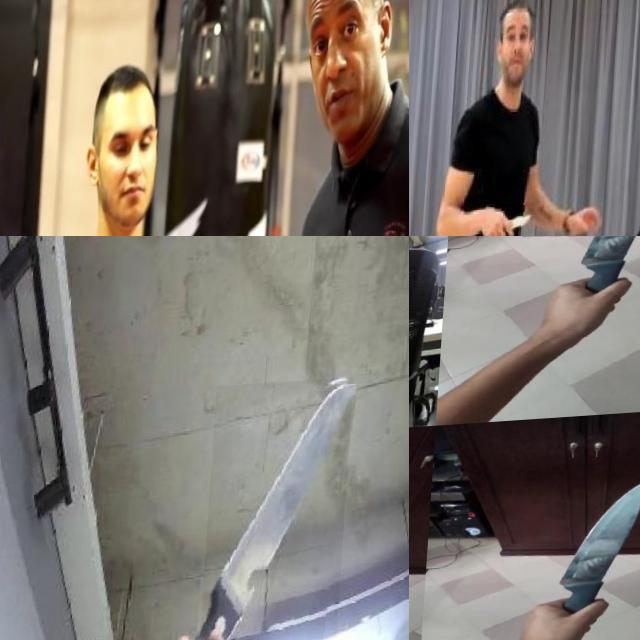-: (207, 384, 358, 640), (559, 489, 640, 611), (409, 503, 450, 623), (572, 236, 640, 298), (486, 206, 539, 236), (409, 339, 417, 375)
